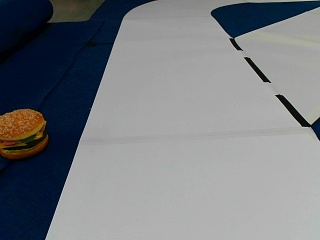burger: (0, 106, 48, 158)
